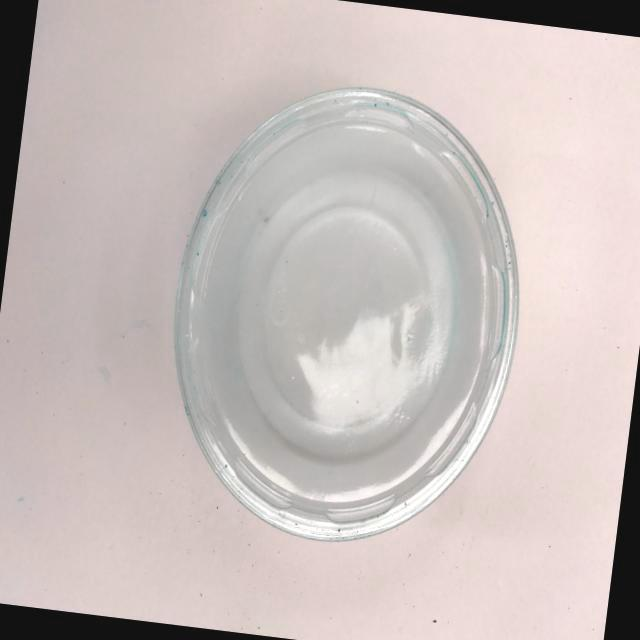plastic: (126, 58, 554, 570)
